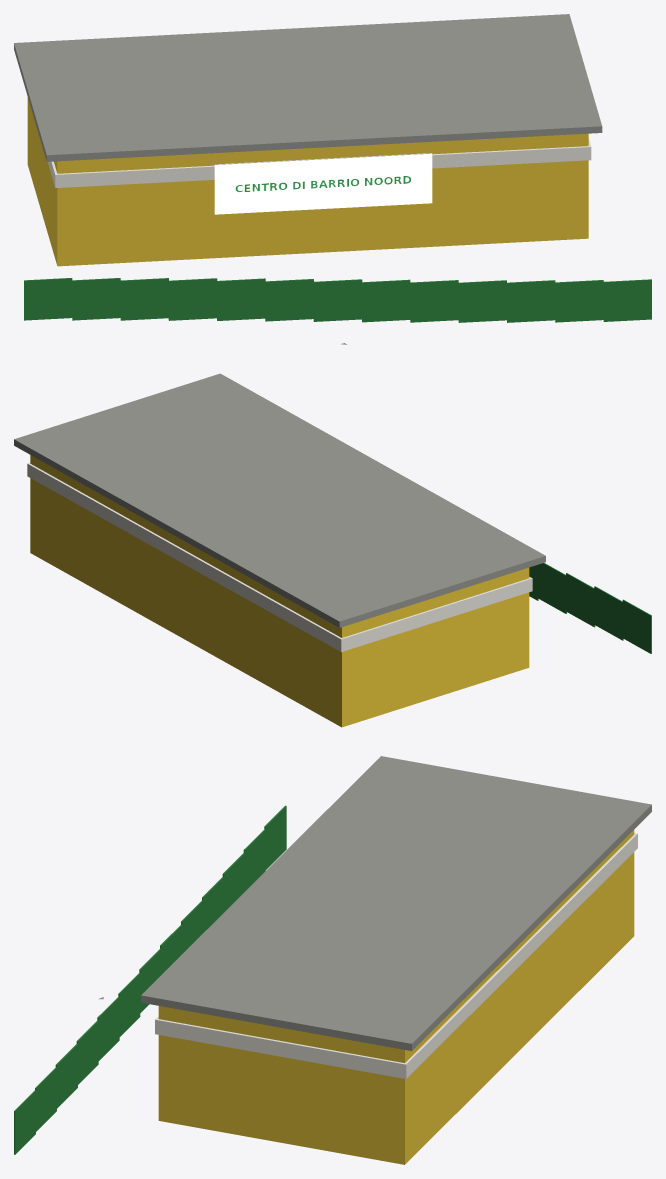
File: centro_barrio.glb
3 views of the same model, one above another, from view 1: azimuth 30°, elevation 25°; view 2: azimuth 150°, elevation 25°; view 3: azimuth 270°, elevation 25° (orthographic). The views are drawn at different scales.
Parts seen in each view (by area): view 1: centro_barrio_lod0; view 2: centro_barrio_lod0; view 3: centro_barrio_lod0.
Part boxes in pixels (bbox=[...]): centro_barrio_lod0: bbox=[14, 14, 651, 344]; centro_barrio_lod0: bbox=[14, 373, 651, 727]; centro_barrio_lod0: bbox=[14, 756, 651, 1164].
Size of what is drawn, in the model's own units: 28.62 by 6.75 by 23.85.
Materials: 7 (1 with a texture image).
